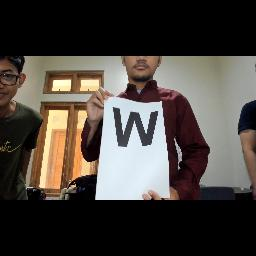w: (110, 104, 162, 148)
